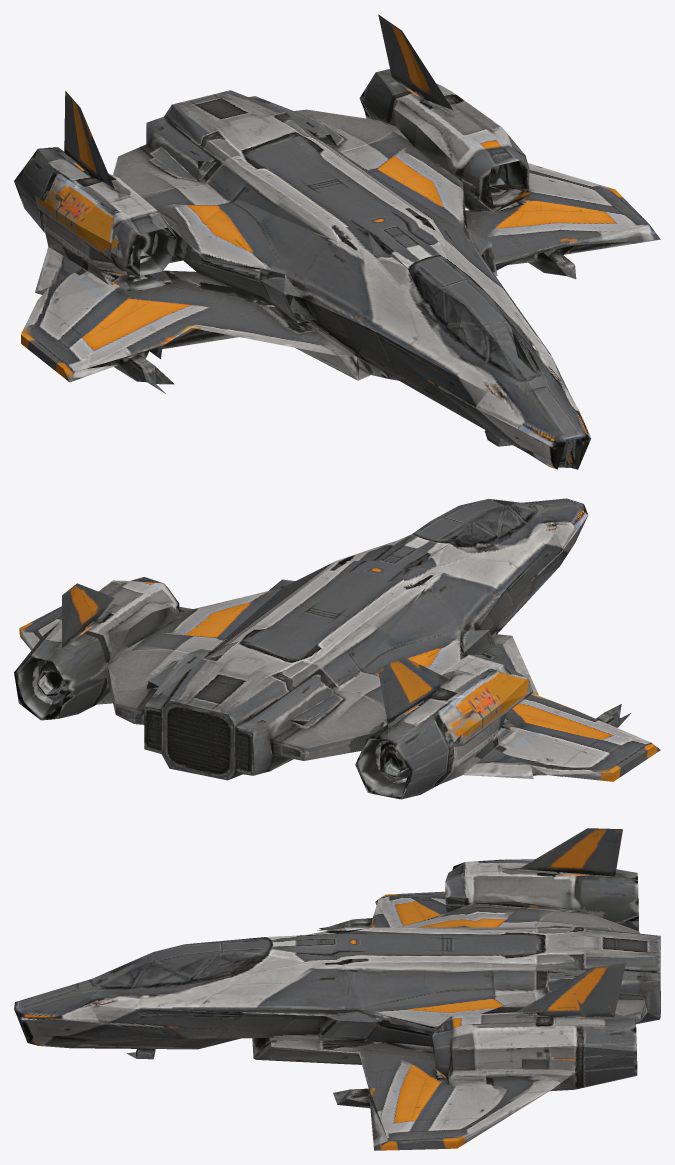
File: hard-1000.glb
3 renders of one model, top to bottom at view 1: azimuth 30°, elevation 25°; view 2: azimuth 150°, elevation 25°; view 3: azimuth 270°, elevation 25°, orthographic. The views are drawn at different scales.
Visible parts, largest first — view 1: Low; view 2: Low; view 3: Low.
Part boxes in pixels (box(x1,y1,x2,y2)): Low: box(14, 14, 660, 469); Low: box(14, 498, 660, 799); Low: box(14, 828, 660, 1150).
Bounding box in the file's own units: 0.8935 × 0.2679 × 0.9782.
1 material, 1 textured.
